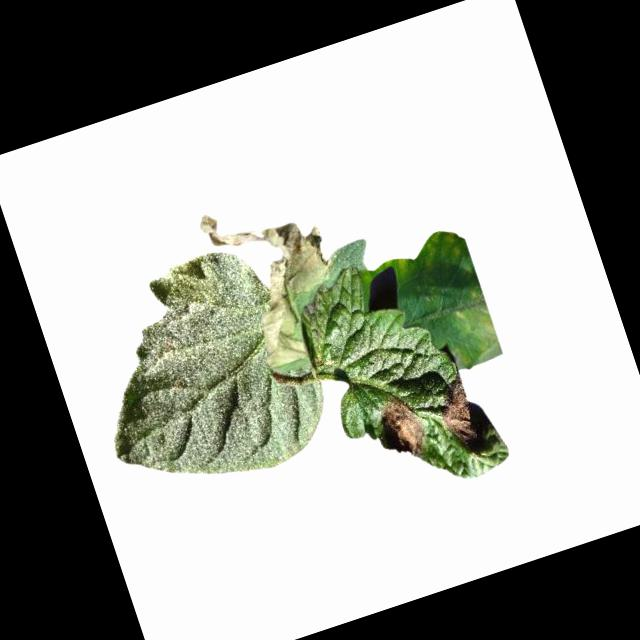Late_blight: (198, 178, 359, 377), (430, 237, 501, 356), (368, 388, 433, 471), (429, 374, 487, 459)
healthy: (65, 232, 341, 513)
